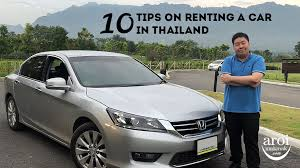car: (1, 43, 226, 168)
